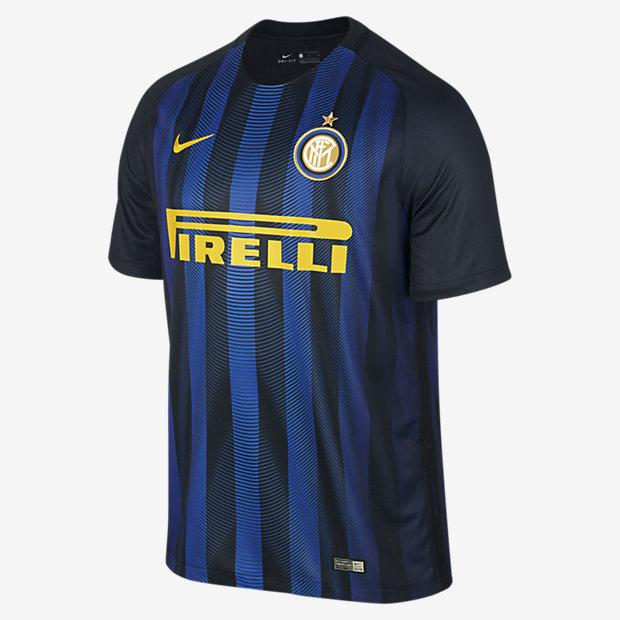teeshirt: (73, 13, 539, 607)
